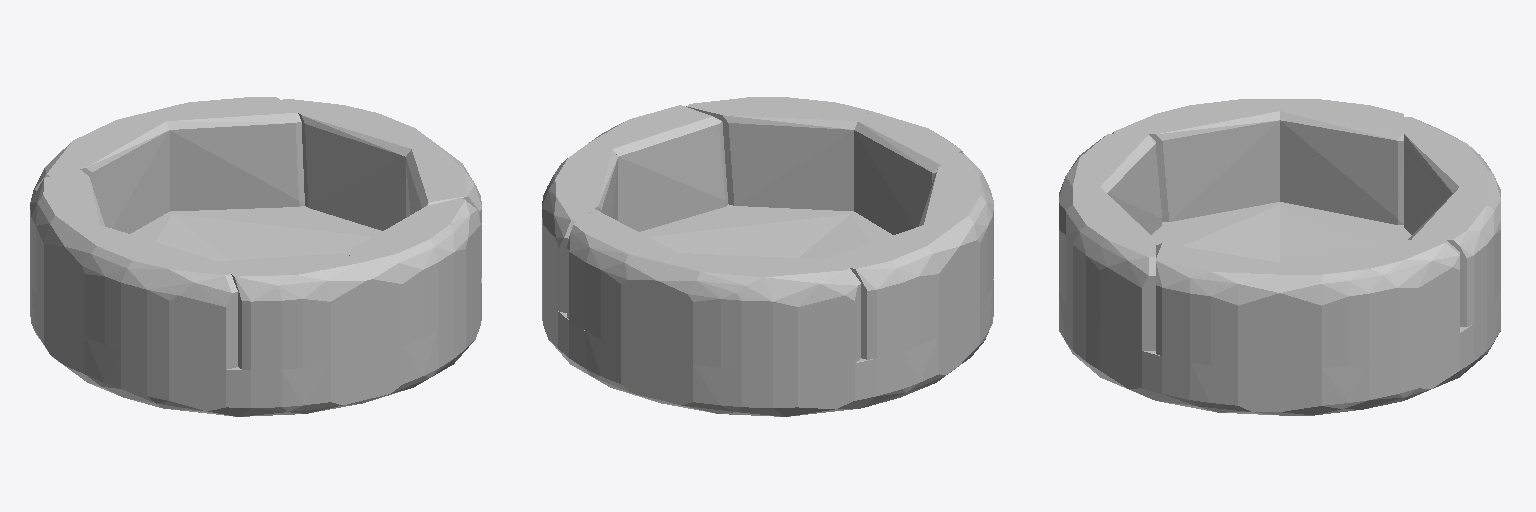
Rendered from Bowl.obj.
3 views of the same model, side by side, from view 1: azimuth 30°, elevation 25°; view 2: azimuth 150°, elevation 25°; view 3: azimuth 270°, elevation 25° (orthographic).
Parts seen in each view (by area): view 1: convex_8, convex_6, convex_9, convex_11, convex_2, convex_7, convex_4, convex_1, convex_5, convex_3, convex_10, convex_0; view 2: convex_4, convex_11, convex_0, convex_10, convex_5, convex_6, convex_9, convex_3, convex_8, convex_7, convex_1, convex_2; view 3: convex_7, convex_10, convex_8, convex_5, convex_11, convex_1, convex_3, convex_6, convex_4, convex_9, convex_2, convex_0.
Boxes of the visible parts, box(x1,y1,x2,y2) form: convex_8: box(64, 225, 237, 369); convex_6: box(153, 97, 304, 210); convex_9: box(214, 253, 366, 369); convex_11: box(347, 198, 480, 355); convex_2: box(64, 322, 366, 416); convex_7: box(281, 99, 434, 230); convex_4: box(31, 111, 169, 233); convex_1: box(170, 206, 382, 259); convex_5: box(30, 169, 104, 320); convex_3: box(364, 278, 481, 402); convex_10: box(406, 143, 481, 277); convex_0: box(30, 212, 228, 366); convex_4: box(657, 253, 860, 369); convex_11: box(686, 97, 870, 210); convex_0: box(657, 322, 959, 416); convex_10: box(589, 105, 727, 231); convex_5: box(820, 225, 959, 359); convex_6: box(567, 209, 676, 355); convex_9: box(854, 111, 963, 234); convex_3: box(639, 204, 853, 257); convex_8: box(919, 153, 993, 320); convex_7: box(542, 143, 617, 312); convex_1: box(542, 283, 659, 402); convex_2: box(799, 212, 993, 366); convex_7: box(1280, 240, 1459, 367); convex_10: box(1156, 243, 1279, 367); convex_8: box(1112, 99, 1279, 221); convex_5: box(1280, 99, 1403, 224); convex_11: box(1059, 187, 1155, 350); convex_1: box(1280, 294, 1500, 415); convex_3: box(1059, 294, 1279, 415); convex_6: box(1408, 187, 1500, 326); convex_4: box(1404, 117, 1500, 234); convex_9: box(1059, 134, 1161, 234); convex_2: box(1151, 202, 1279, 262); convex_0: box(1280, 202, 1411, 262).
Size of the model in its own units: 41.25 by 14.18 by 41.25.